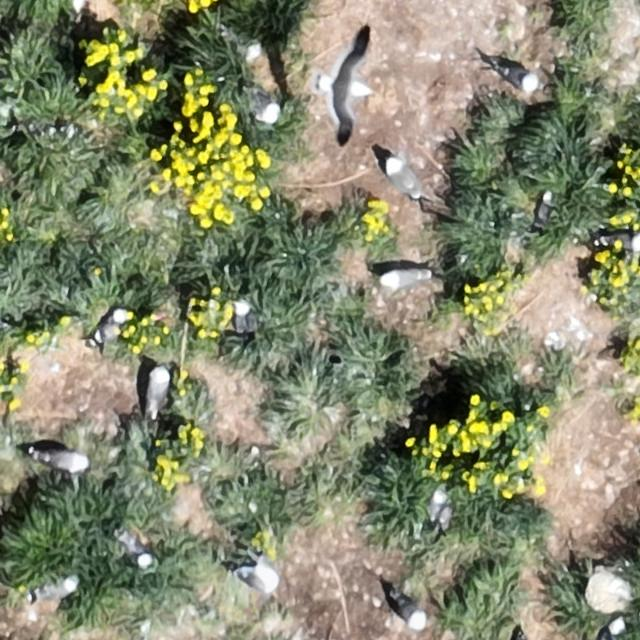F: (326, 44, 370, 133)
umineko: (233, 561, 285, 599), (240, 82, 280, 122), (388, 158, 422, 198), (40, 449, 88, 471), (395, 597, 427, 630), (498, 64, 538, 90), (36, 575, 78, 599), (94, 310, 125, 342), (148, 366, 170, 411), (228, 31, 260, 60), (123, 537, 152, 568), (383, 268, 426, 288), (233, 302, 250, 333), (602, 618, 626, 637), (630, 232, 639, 252)
